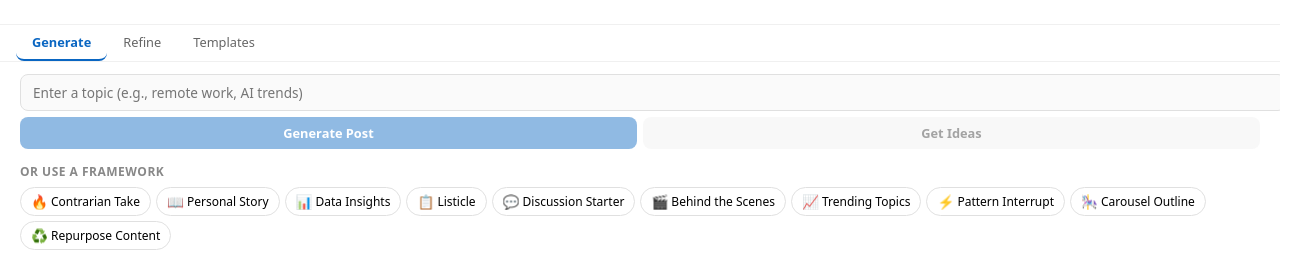
AiPanel › switches to Refine tab and shows actions
The image size is (1292, 276).
Click the button "Refine" at (142, 43), box [107,25,177,61]
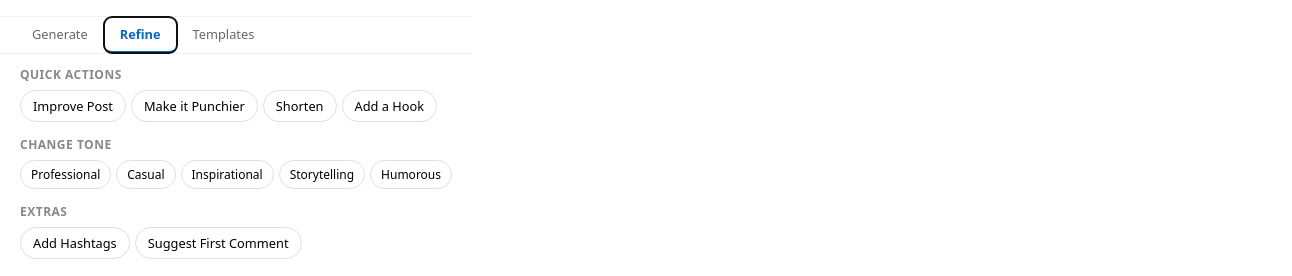
Now the button "Improve Post" is shown, box [20,90,126,122]
Now the button "Make it Punchier" is shown, box [131,90,258,122]
Now the button "Shorten" is shown, box [263,90,336,122]
